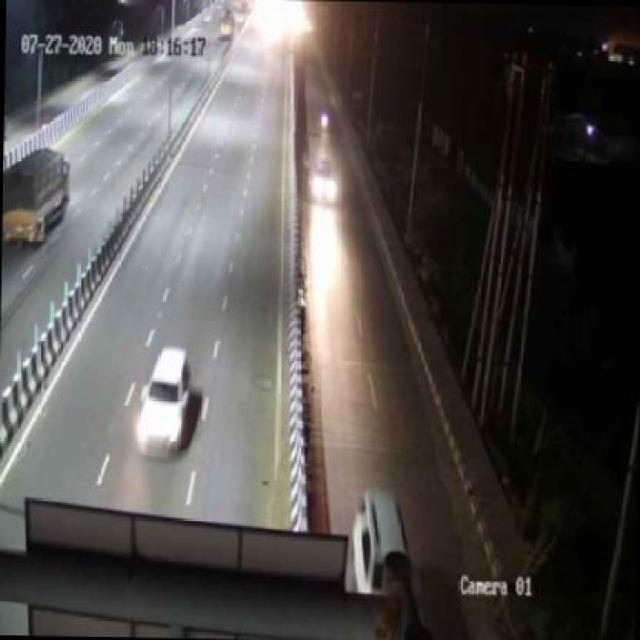car: (346, 485, 422, 606), (137, 340, 194, 455), (309, 147, 337, 210)
